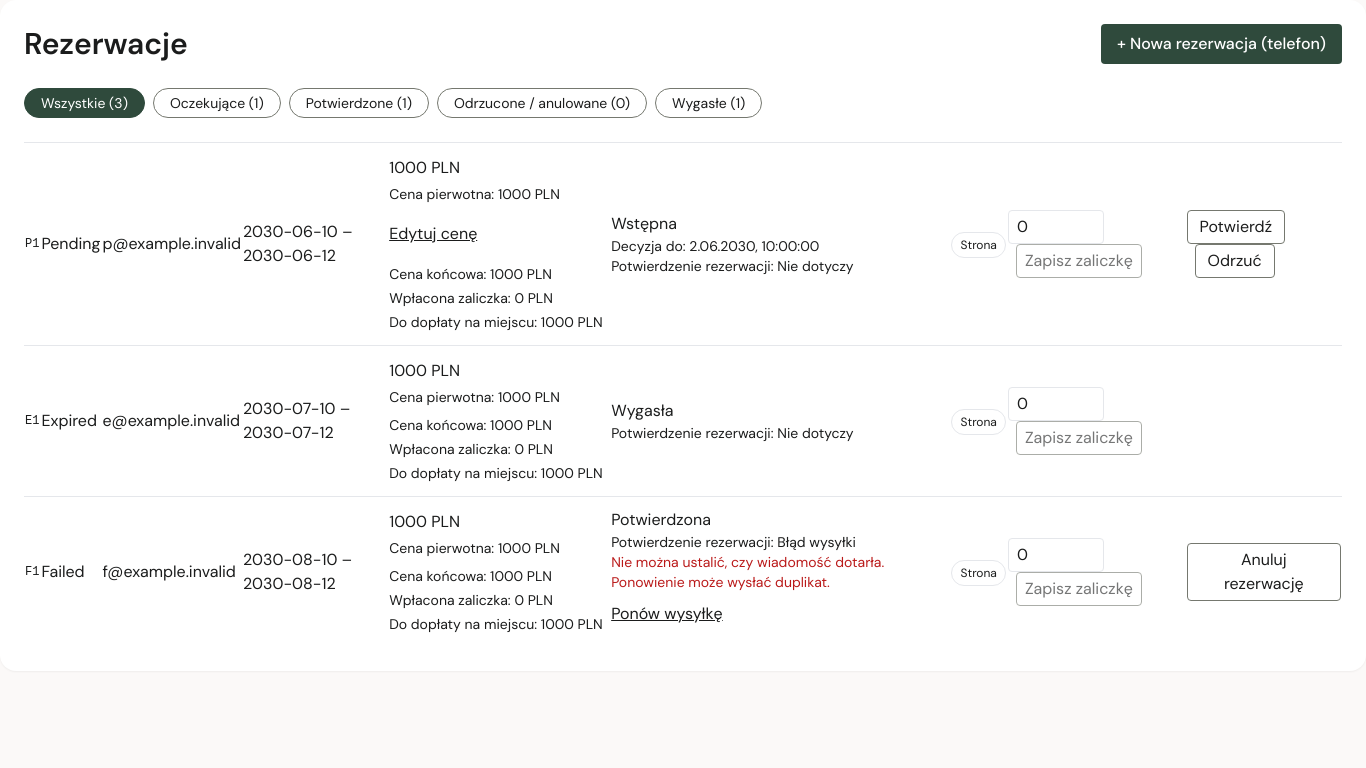
Scenario: admin tabs › distinguishes pending decisions, expired holds and failed confirmation delivery
The image size is (1366, 768).
Expected: the button "Odrzuć" is shown, x1=1195 y1=244 x2=1275 y2=278
Expected: the text "Ponowienie może wysłać duplikat" is shown, x1=611 y1=553 x2=884 y2=591
Click the button "Ponów wysyłkę": (667, 614) x1=611 y1=592 x2=723 y2=636
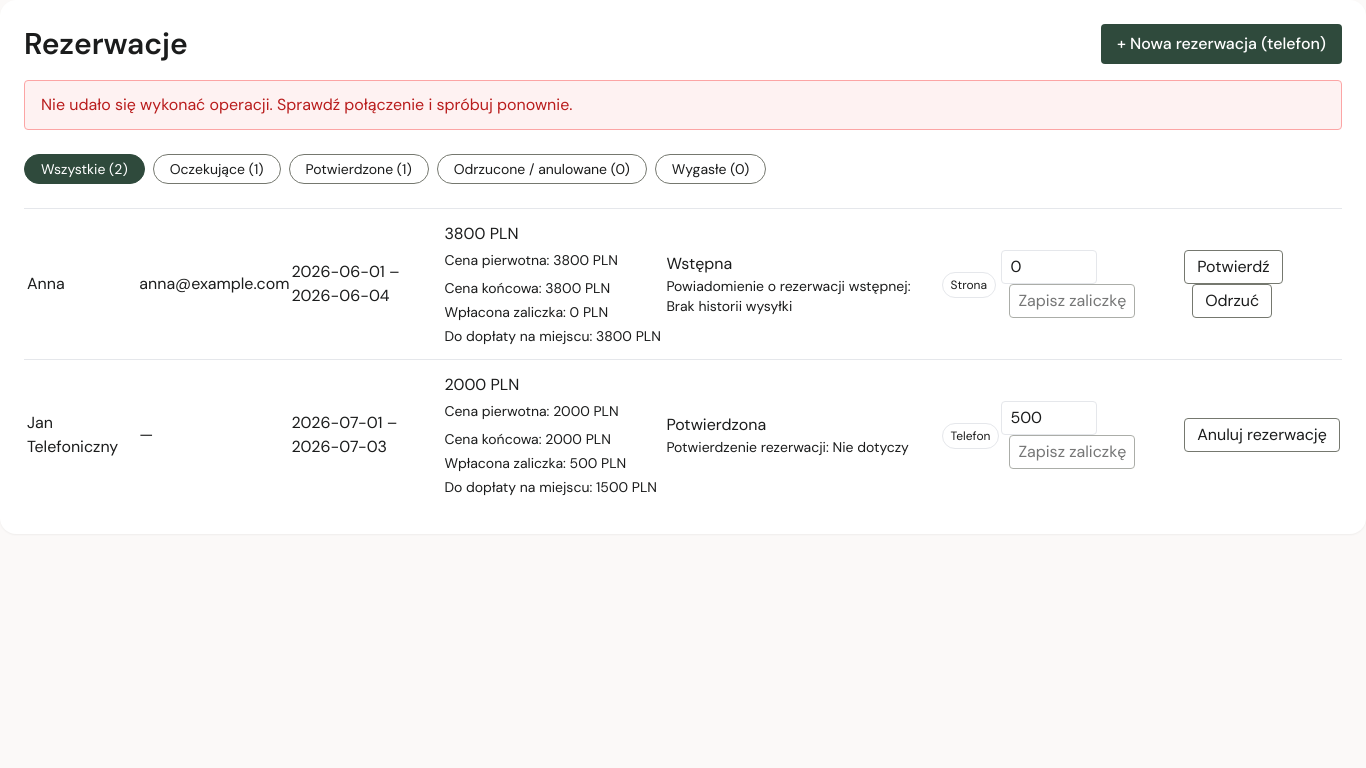
Now the message shows "Nie udało się wykonać operacji", box x1=41 y1=94 x2=572 y2=115
